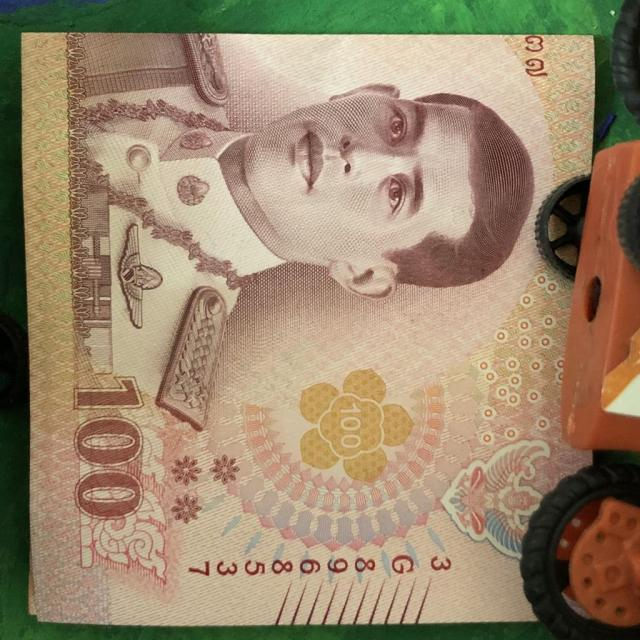THAI100: (22, 33, 594, 625)
